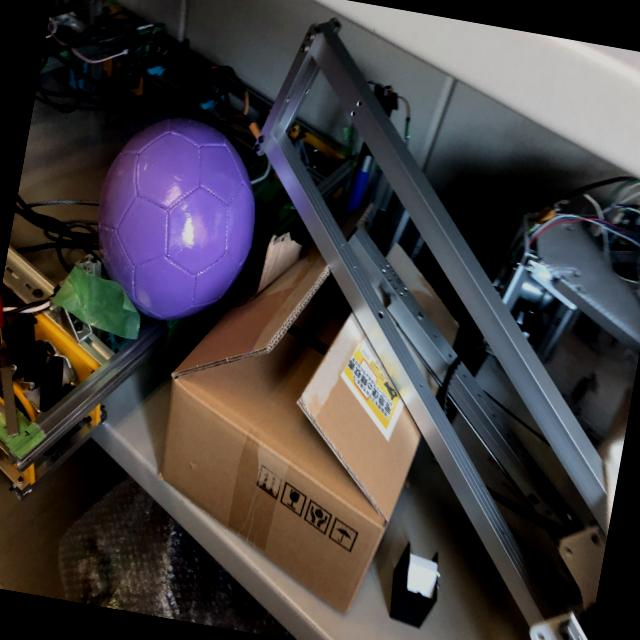purple_ball: (80, 105, 274, 337)
